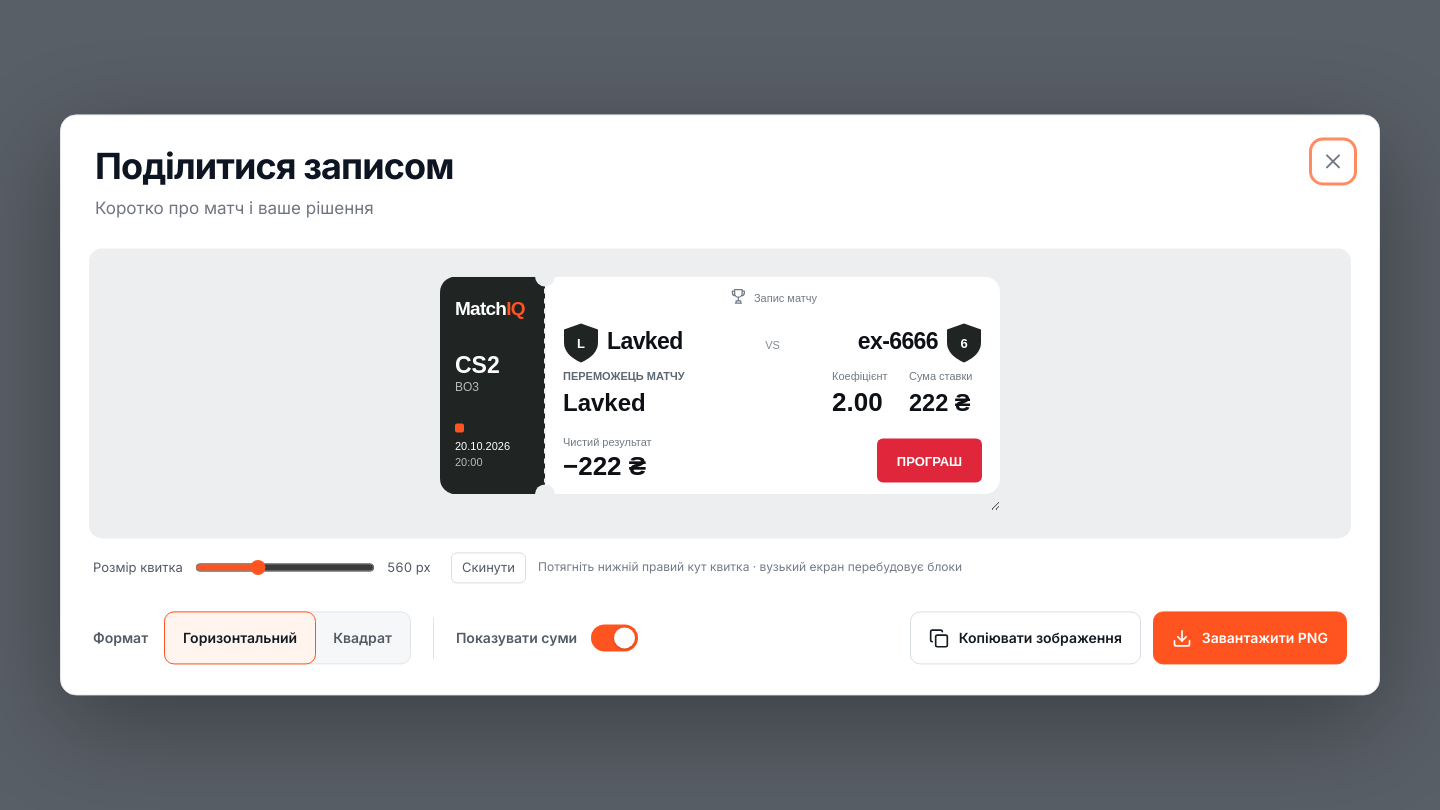
Test: Ticket share dialog › copies a PNG and reports success
The width and height of the screenshot is (1440, 810).
Click the button "Копіювати зображення": (1025, 638) left=910, top=612, right=1141, bottom=665
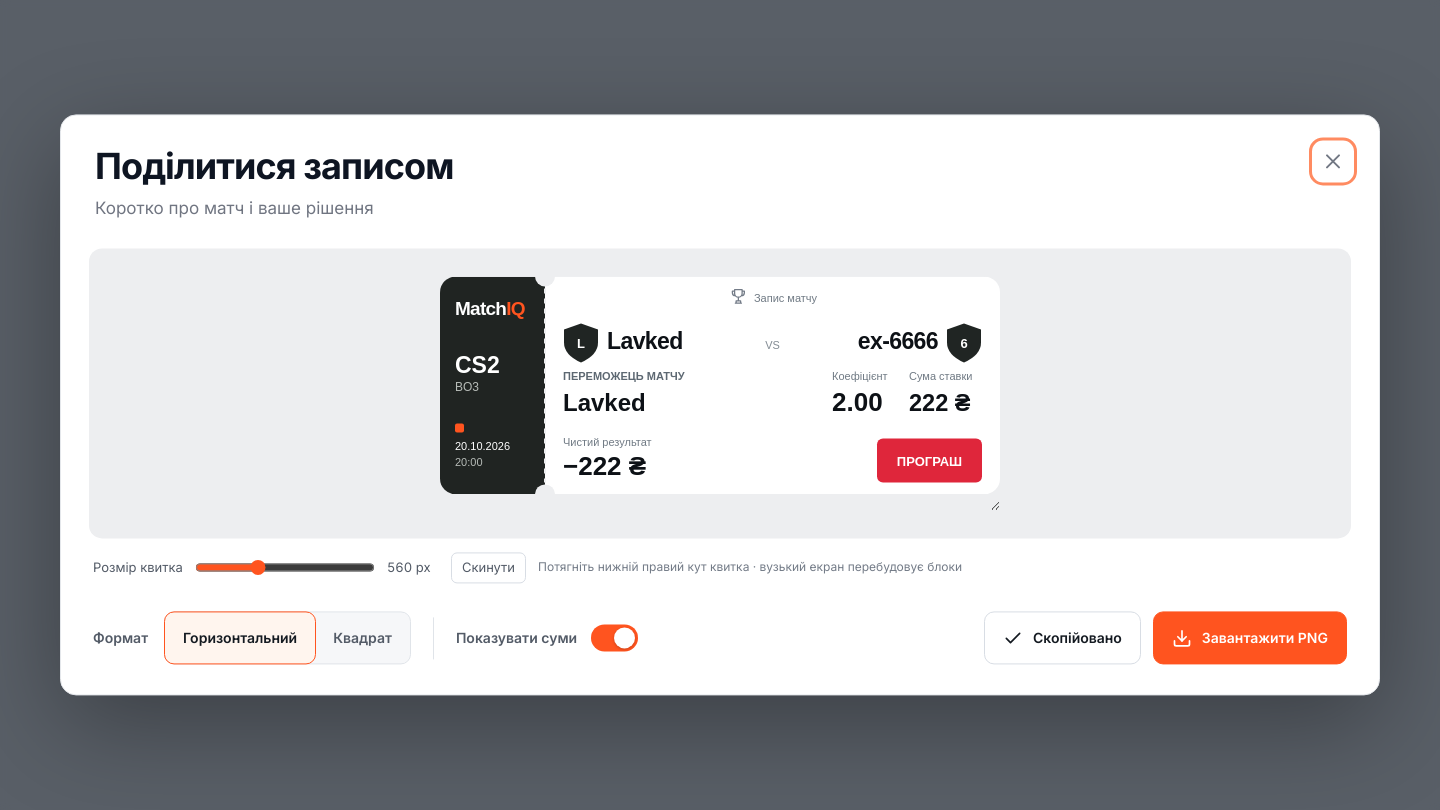
Check: the button "Скопійовано" is shown, box left=984, top=612, right=1141, bottom=665
